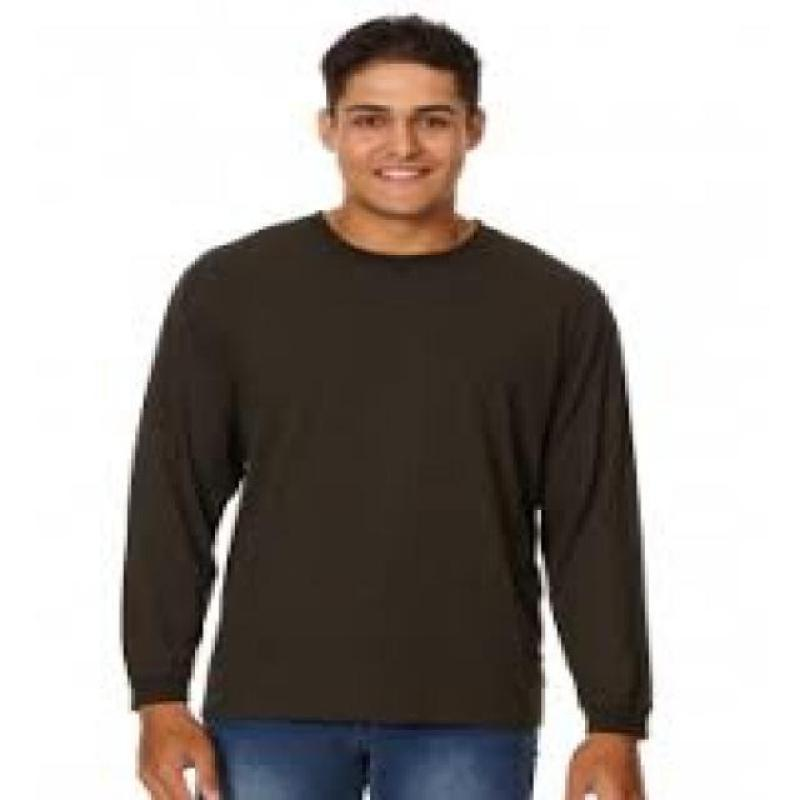sweater: (120, 216, 656, 744)
trousers: (197, 721, 538, 800)
